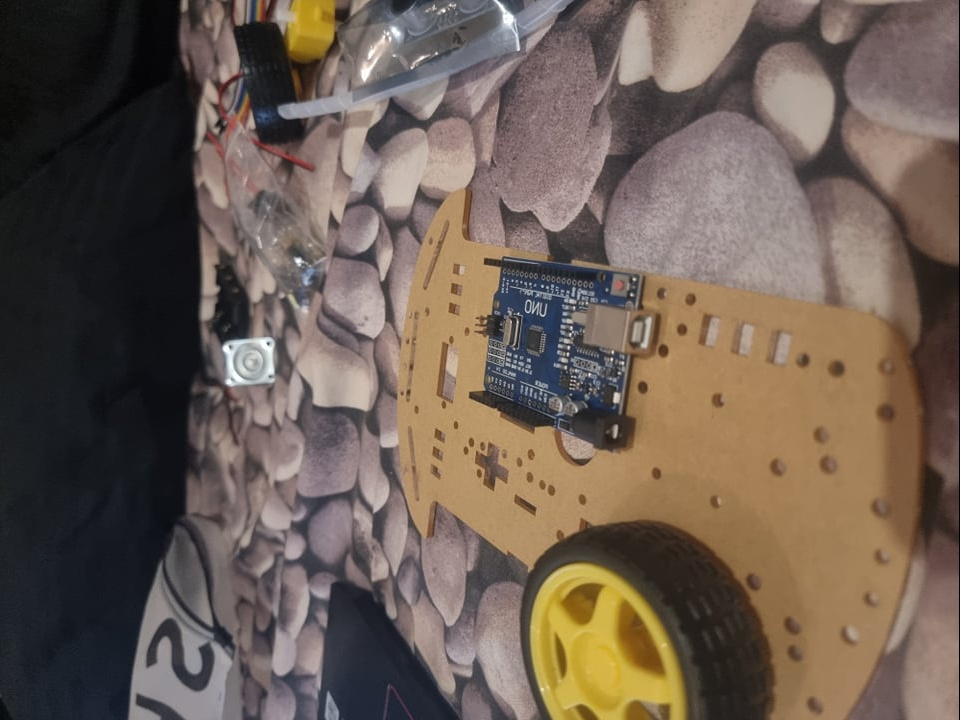BATTERY BOX: (206, 263, 249, 344)
UNO R3: (467, 251, 663, 456)
